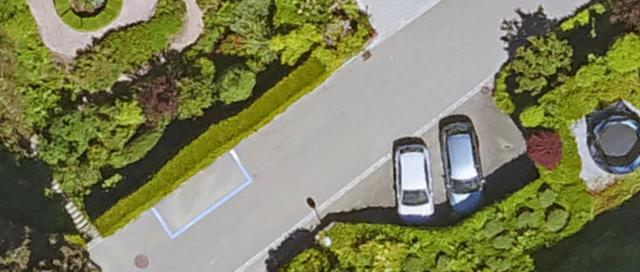tree: (509, 34, 575, 96), (0, 237, 86, 272)
